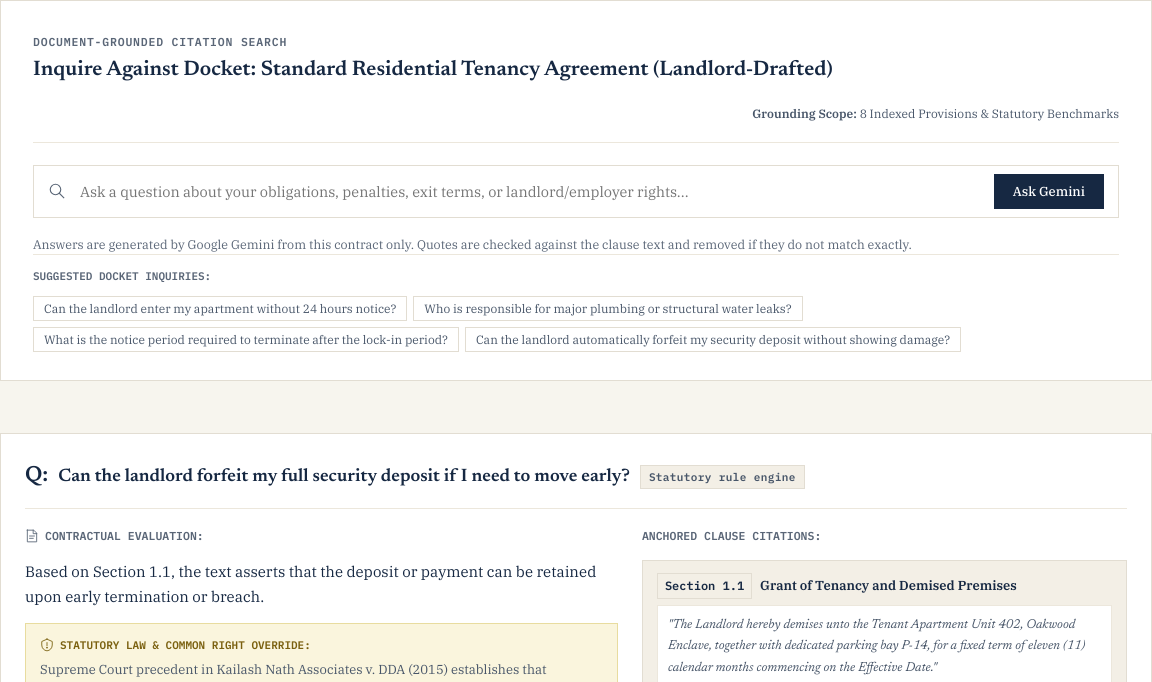
Test: GroundedQA with Gemini › falls back to the rule engine and tells the user when Gemini fails
The image size is (1152, 682).
Replace the text in the field named "Ask a question about this contract" with "Can the landlord enter without notice?" at coordinates (530, 191), box x1=80 y1=176 x2=980 y2=207
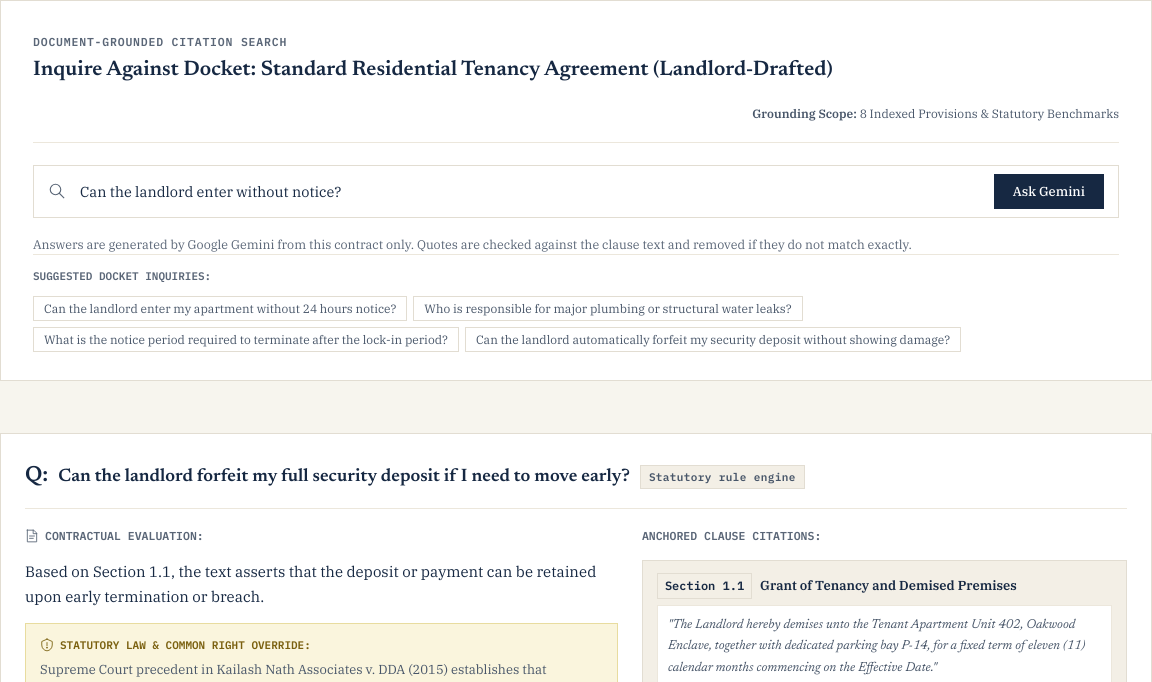
Click the button "Ask Gemini".
click(1049, 191)  # box x1=994 y1=174 x2=1104 y2=209
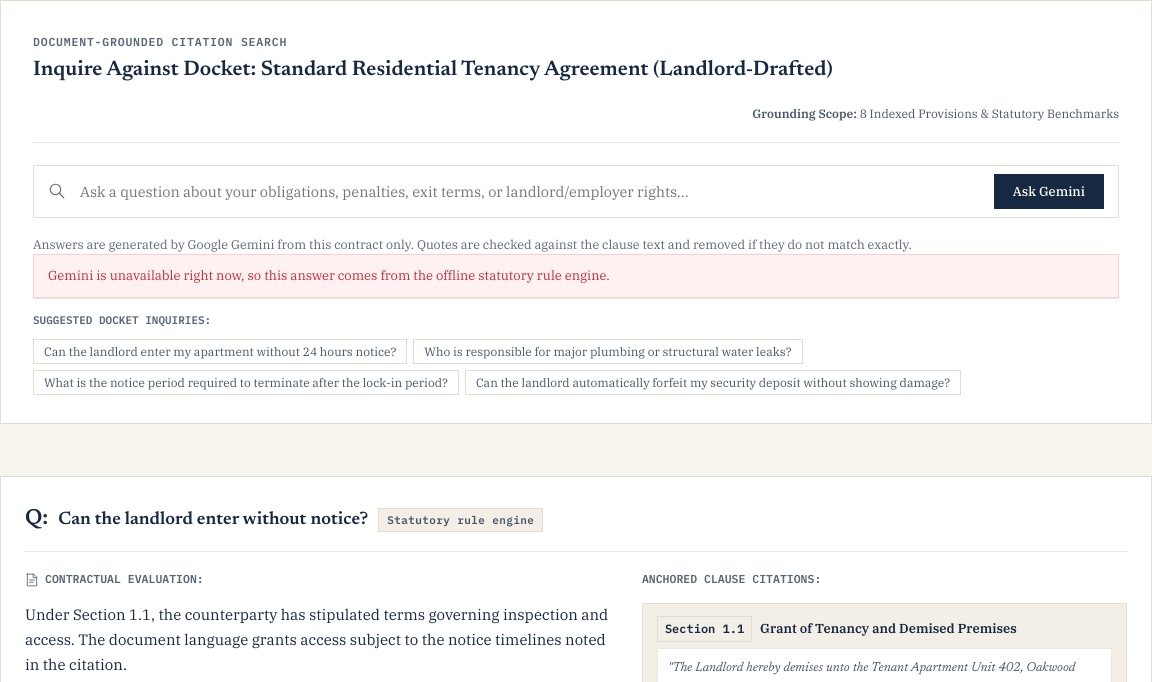
Now the text "offline statutory rule engine" is shown, box x1=48 y1=267 x2=610 y2=284
Now the heading "Can the landlord enter without notice?" is shown, box x1=58 y1=509 x2=368 y2=532
